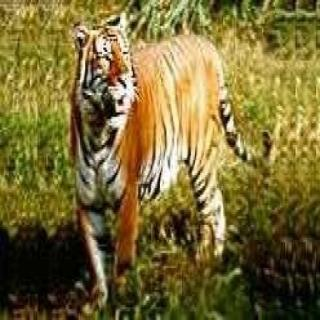Tiger: (47, 14, 283, 302)
